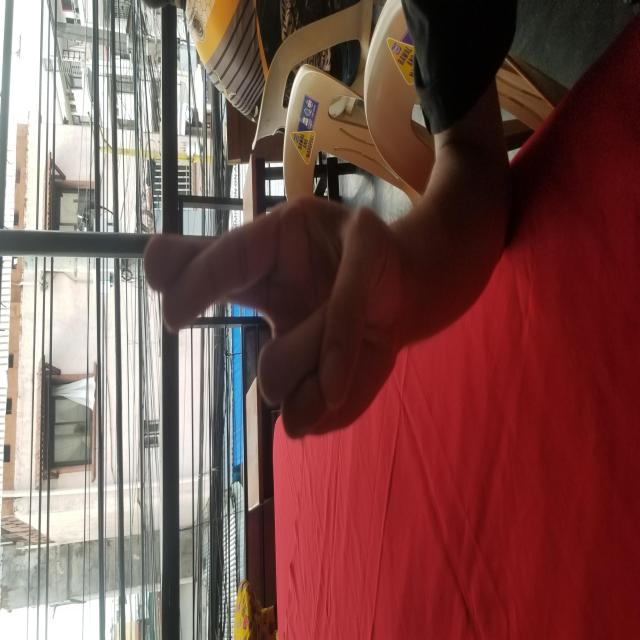R: (193, 140, 449, 404)
